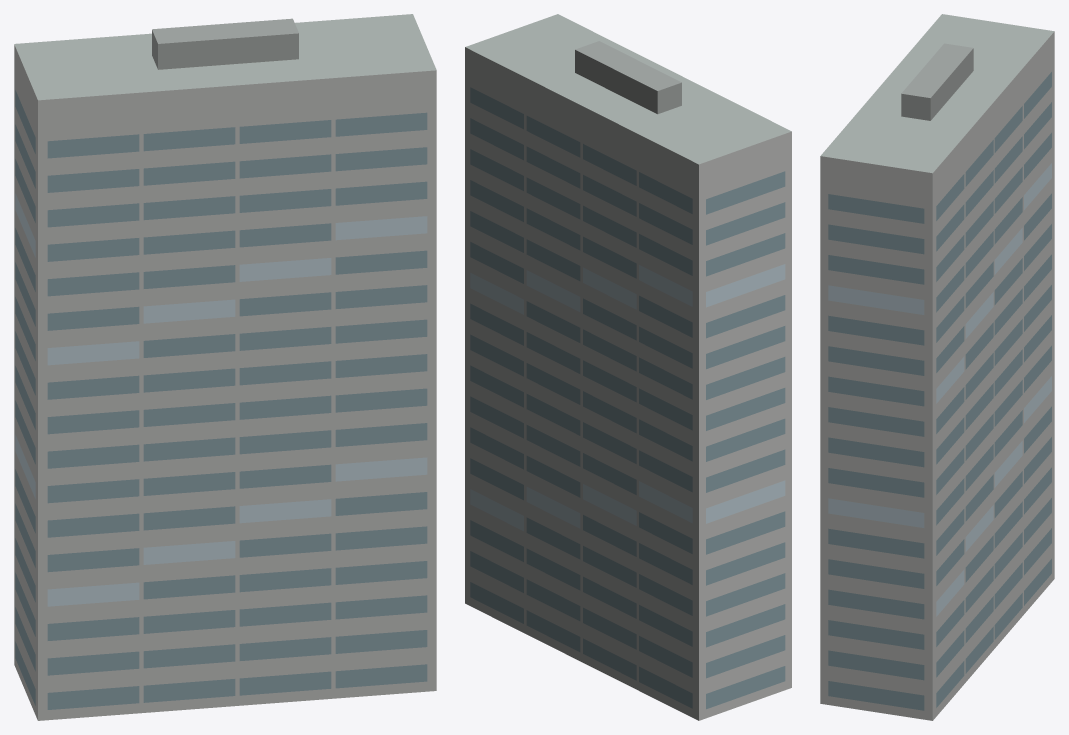
Rendered from apt-a10024524.glb.
3 views of the same model, side by side, from view 1: azimuth 30°, elevation 25°; view 2: azimuth 150°, elevation 25°; view 3: azimuth 270°, elevation 25° (orthographic). The views are drawn at different scales.
Visible parts, largest first — view 1: apt-a10024524; view 2: apt-a10024524; view 3: apt-a10024524.
Boxes of the visible parts, bbox=[...] form: apt-a10024524: bbox=[14, 14, 436, 720]; apt-a10024524: bbox=[465, 14, 791, 720]; apt-a10024524: bbox=[820, 14, 1054, 720].
Size of the model in its own units: 35.92 by 60 by 22.33.
